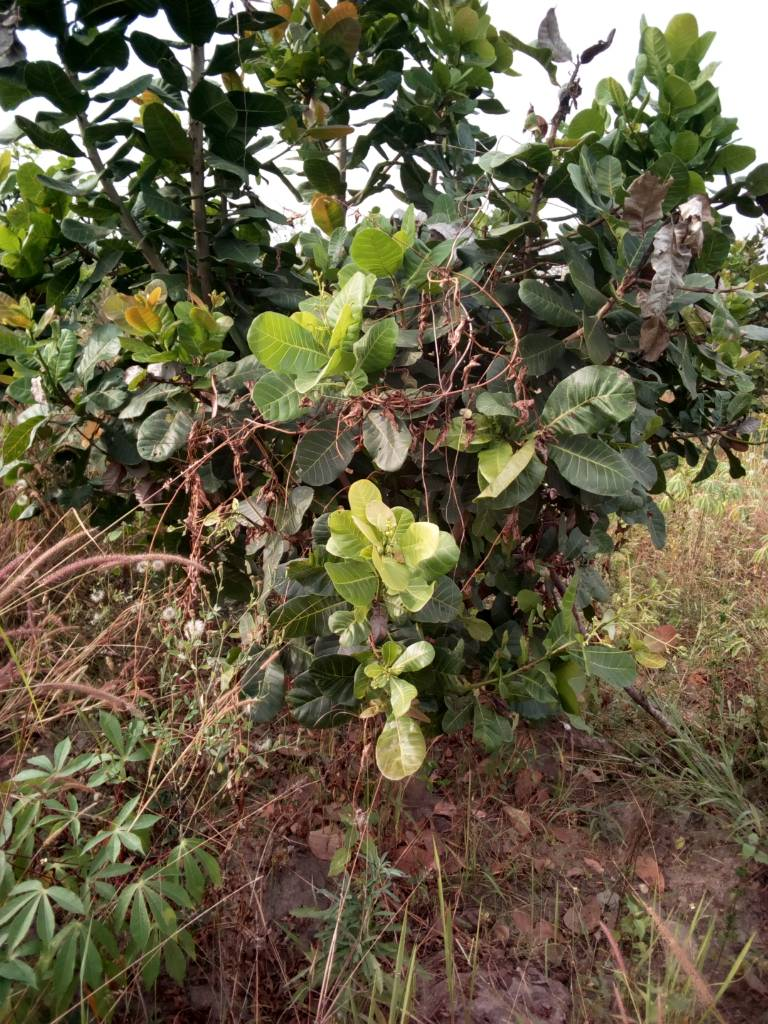Dessèchement des bourgeons: (427, 261, 486, 374), (330, 389, 450, 433), (504, 333, 550, 435)
